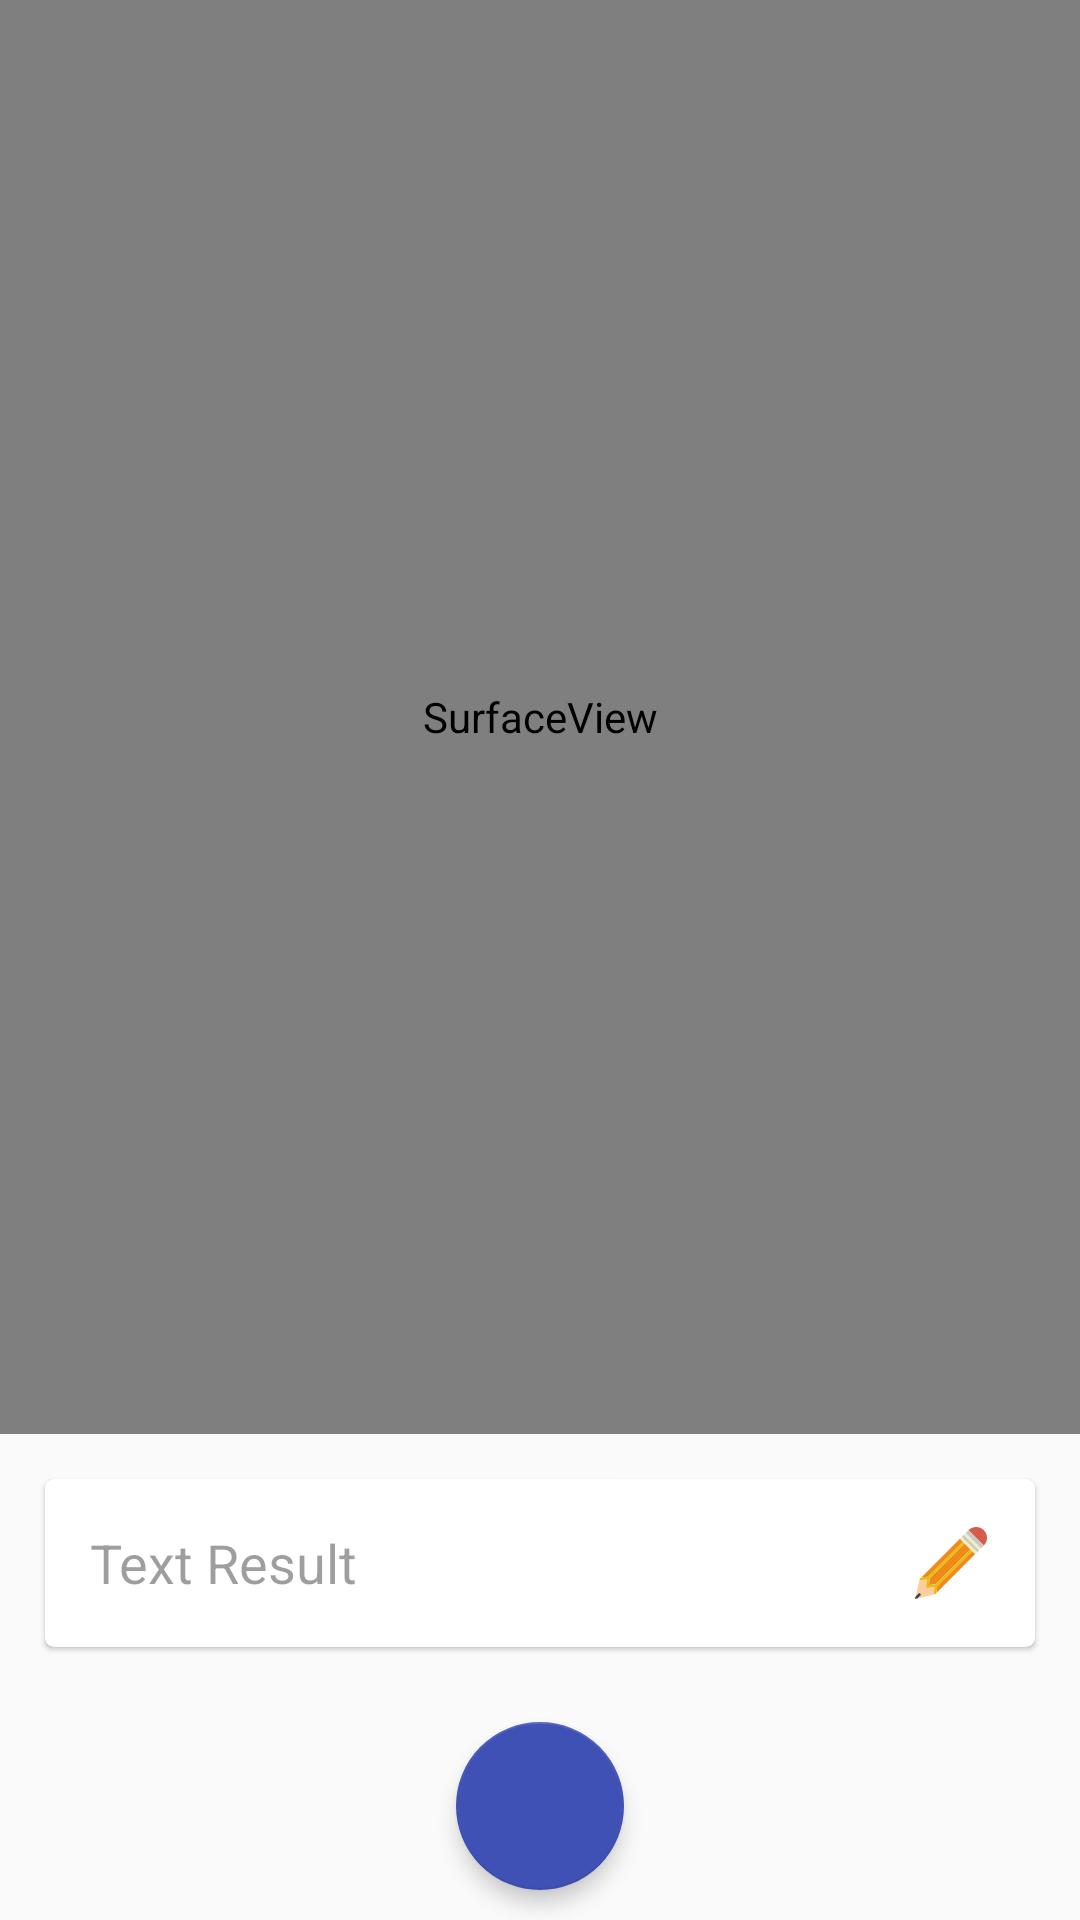

Screen size 1080 × 1920. Icon name, then its box in pixels as (x1, y1, x2, y2):
edit: (915, 1527, 987, 1599)
